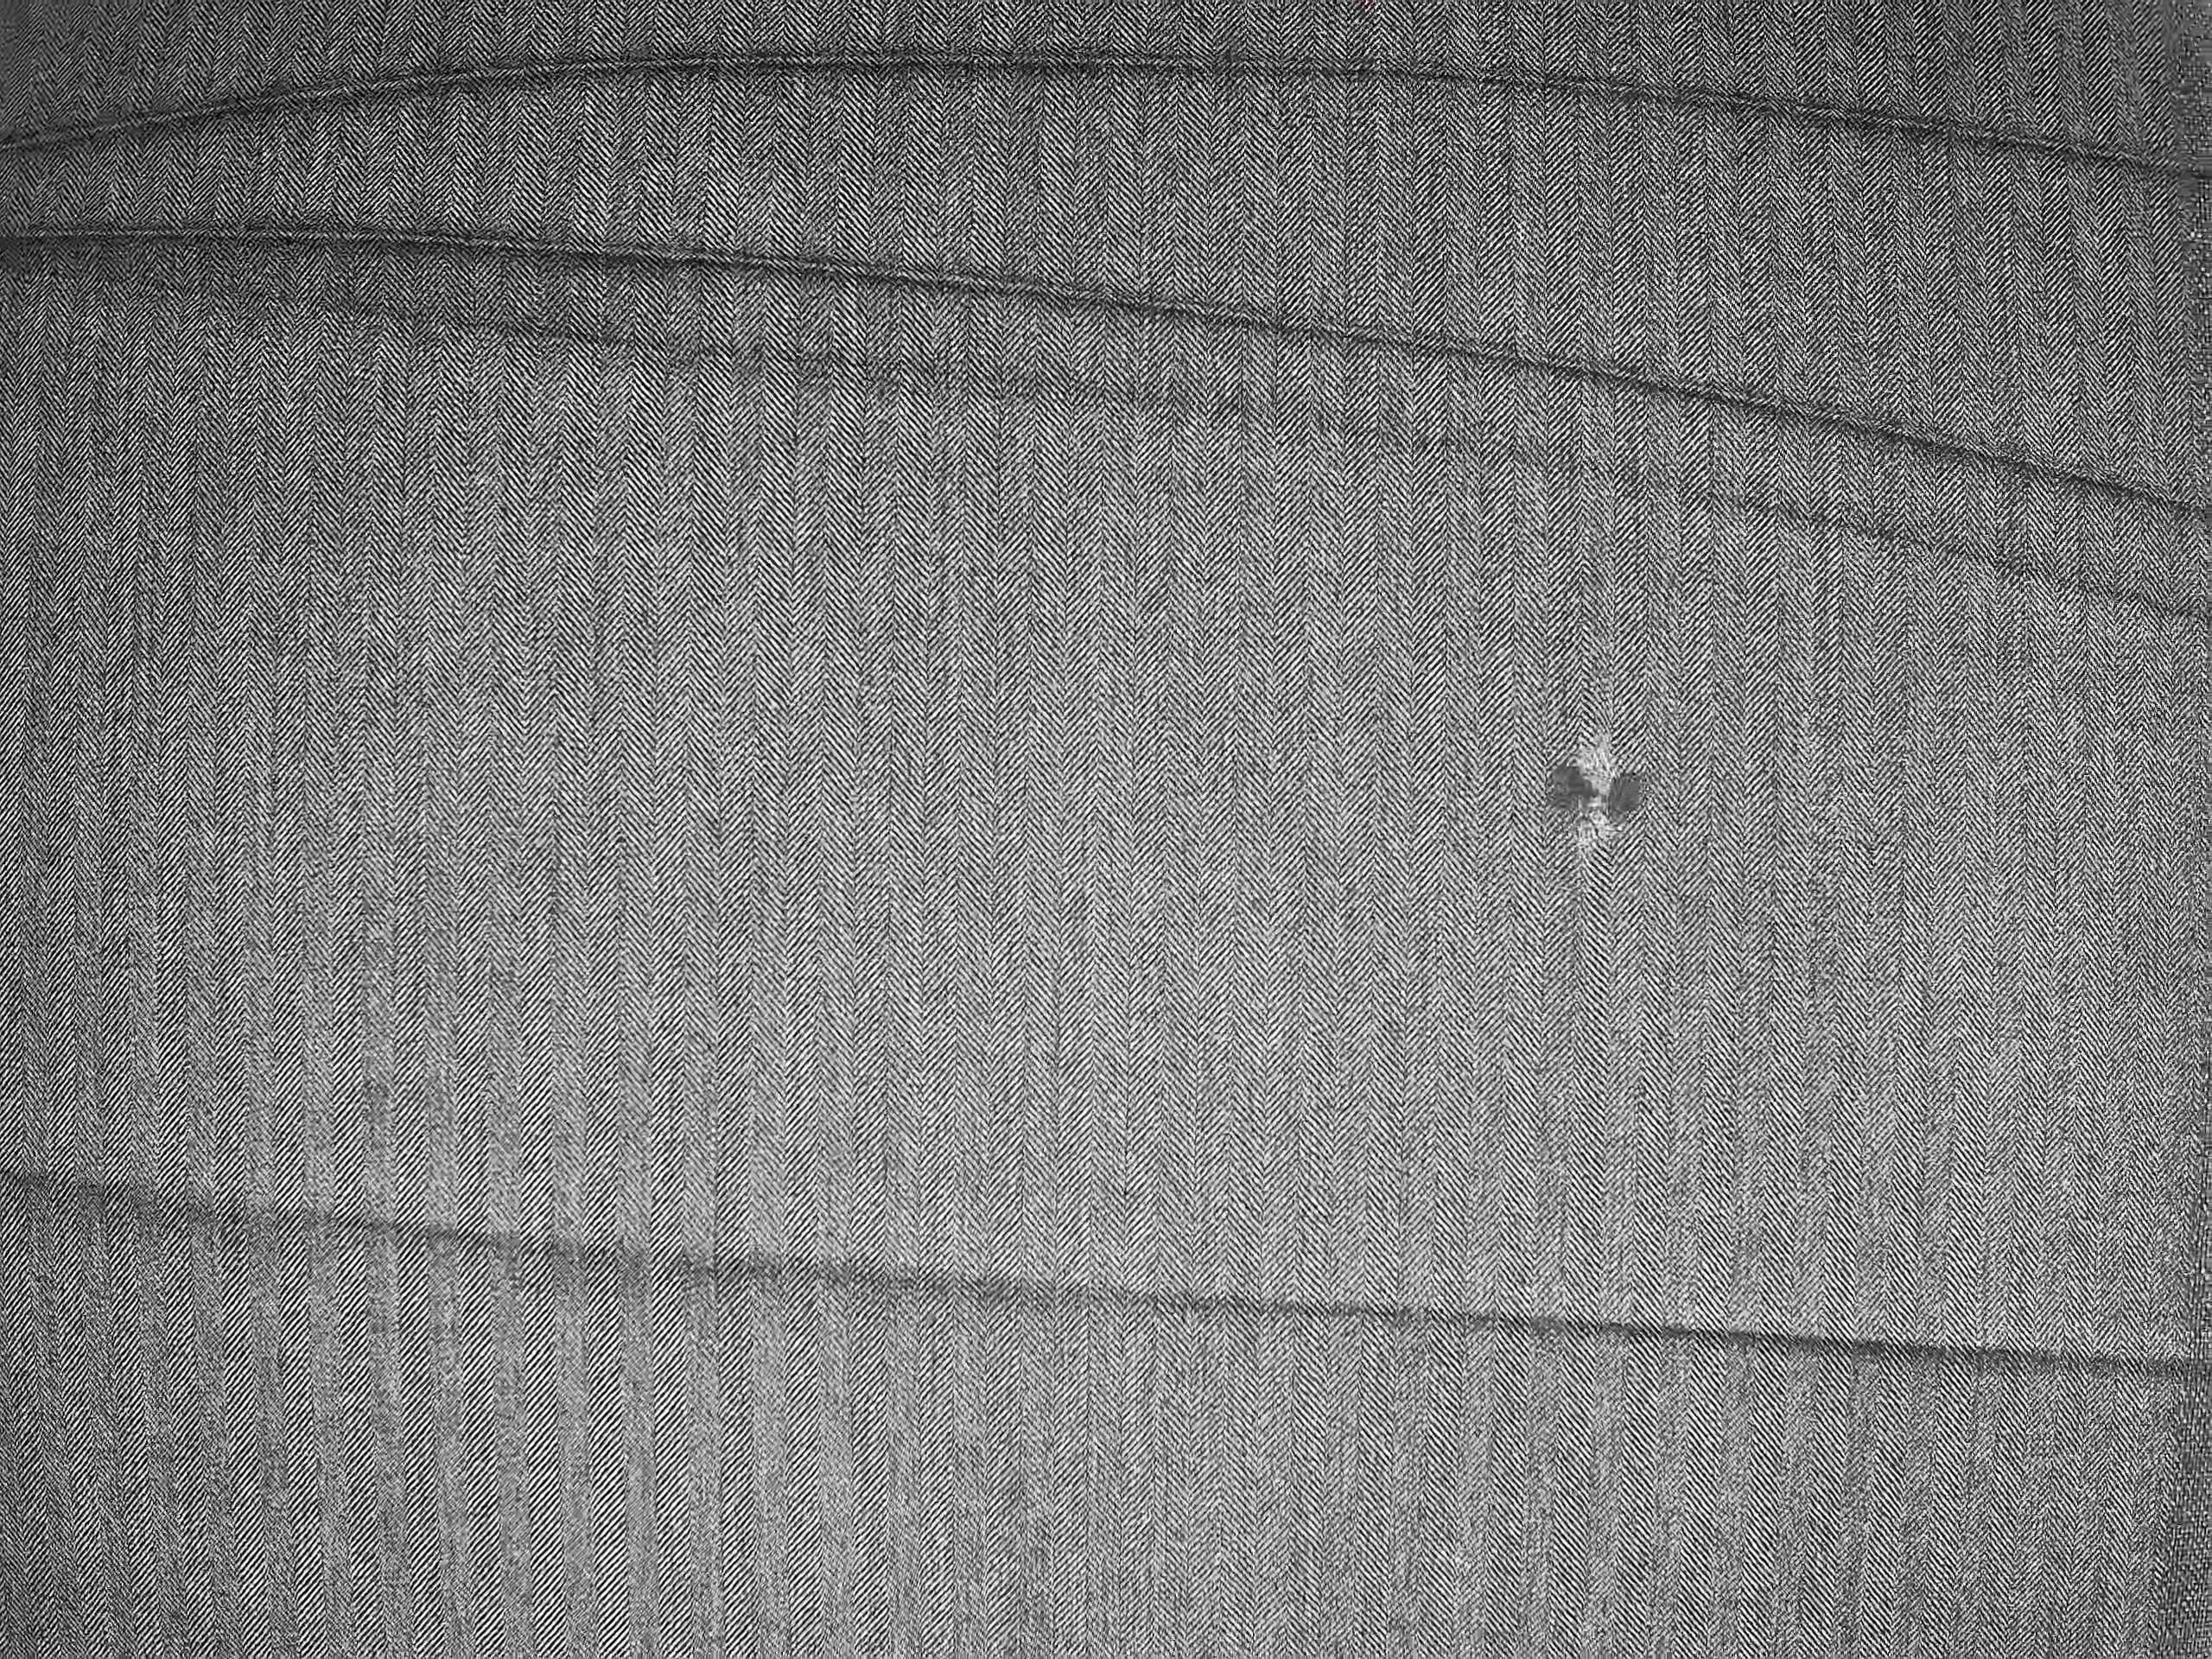rubbing-hole: (1522, 713, 1672, 863)
